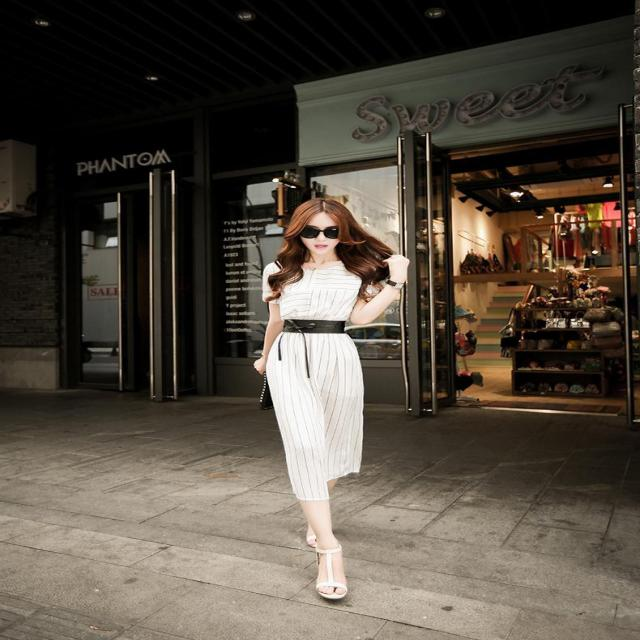short sleeve dress: (263, 258, 378, 496)
